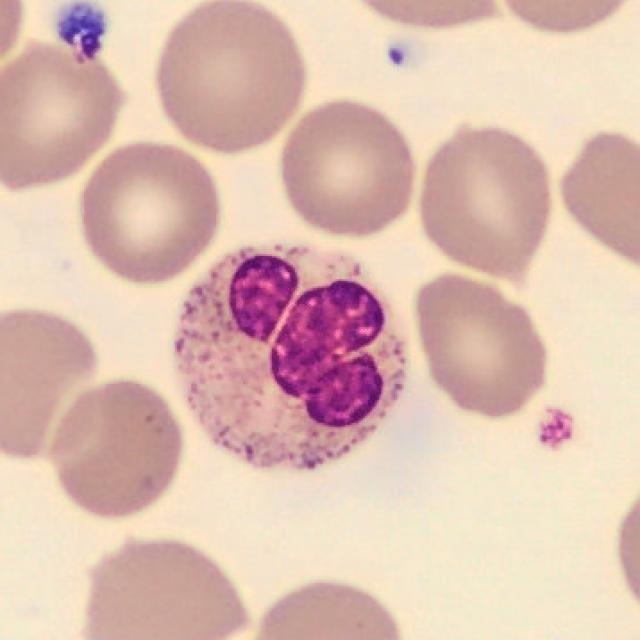Neutrofilo segmentado: (175, 245, 402, 468)
